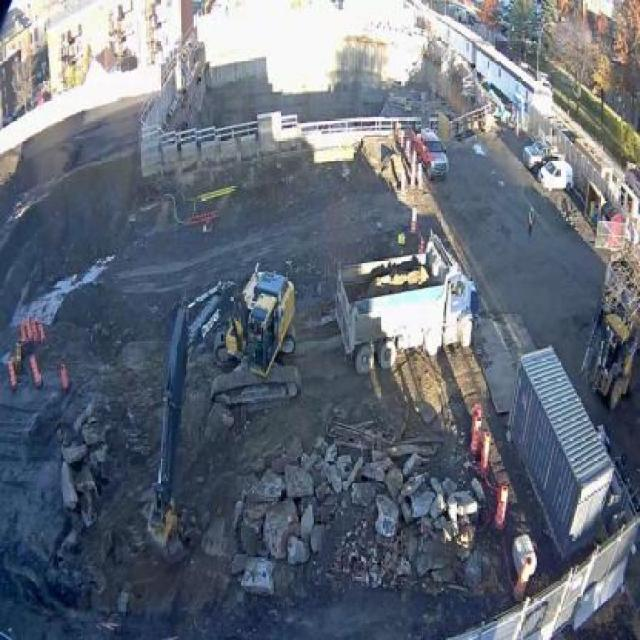Dump Truck: (331, 221, 478, 377)
Excavator: (145, 258, 304, 568)
